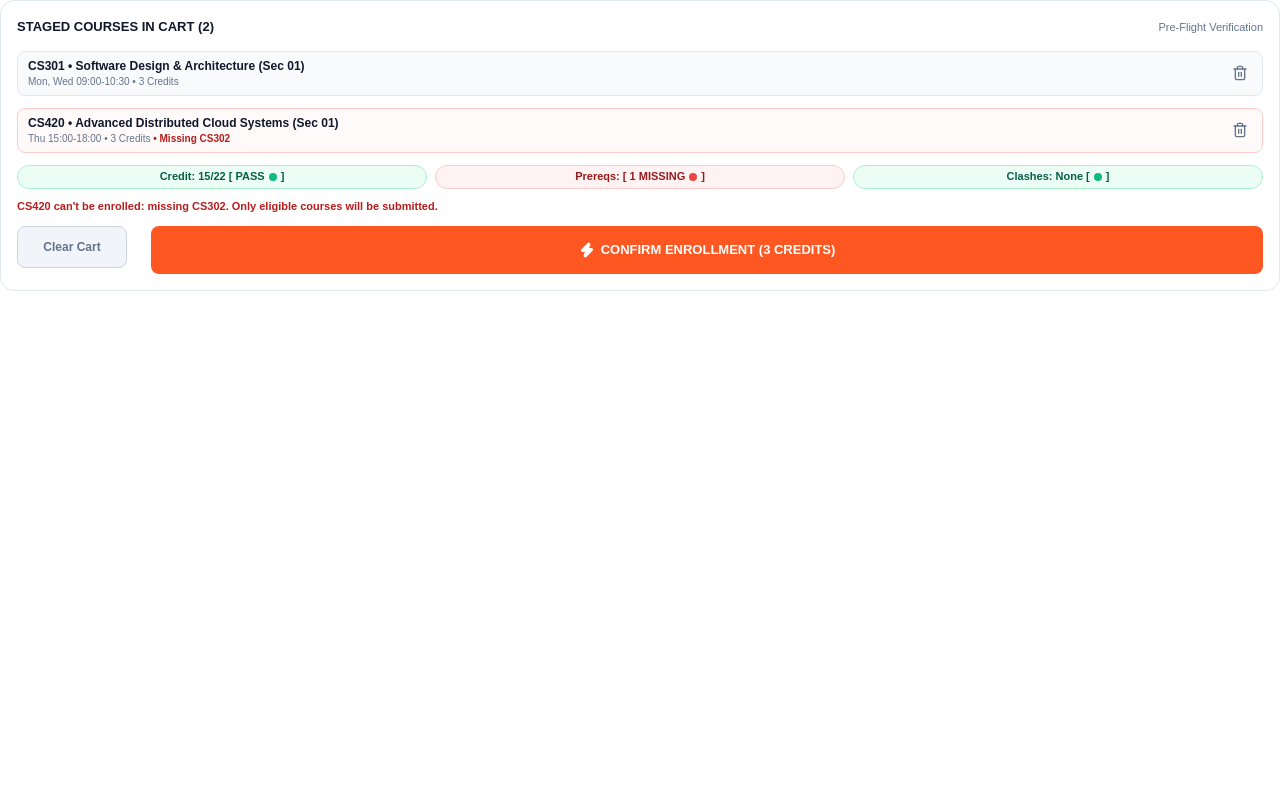
Test: CartDock › checks prerequisites and only submits the eligible courses
This screenshot has width=1280, height=800.
Expected: the text "• Missing CS302" is shown, [150,132,230,144]
Expected: the message shows "CS420 can't be enrolled: missing CS302", [17,200,438,212]
Click the button "Confirm Enrollment (3 Credits)" at (707, 250), box [151,226,1263,274]
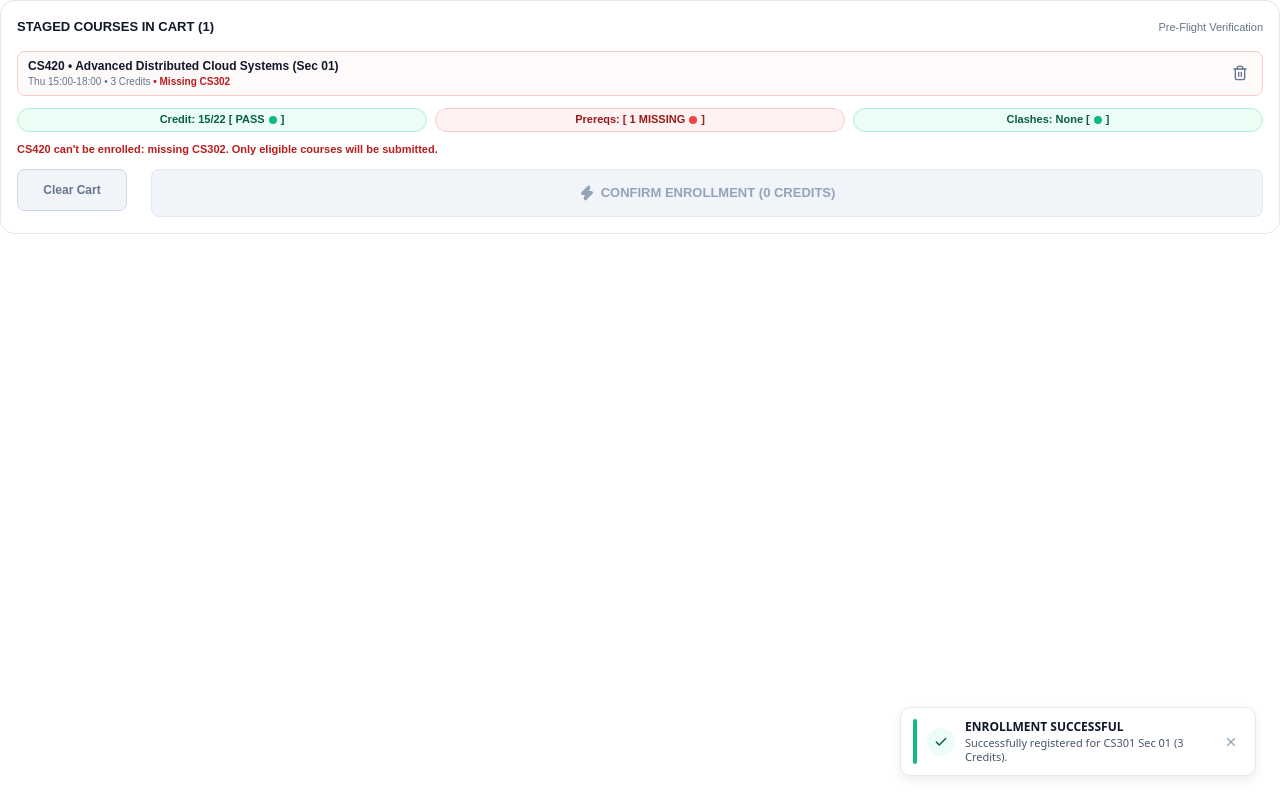
Result: the text "Successfully registered for CS301 Sec 01 (3 Credits)." is shown at [965,736,1209,764]
